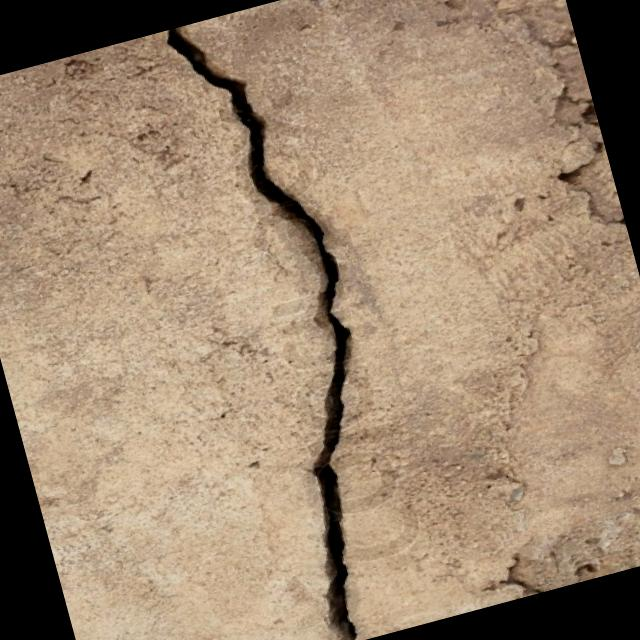crack: (163, 4, 432, 640)
